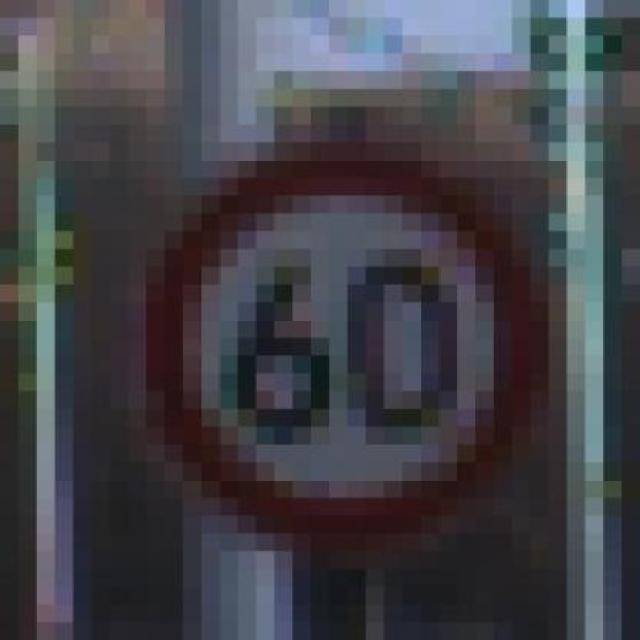forb_speed_over_60: (161, 162, 524, 533)
